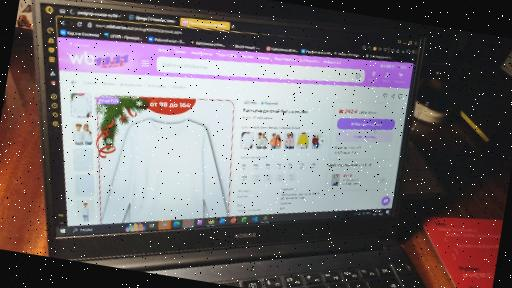wildberries: (34, 7, 416, 277)
